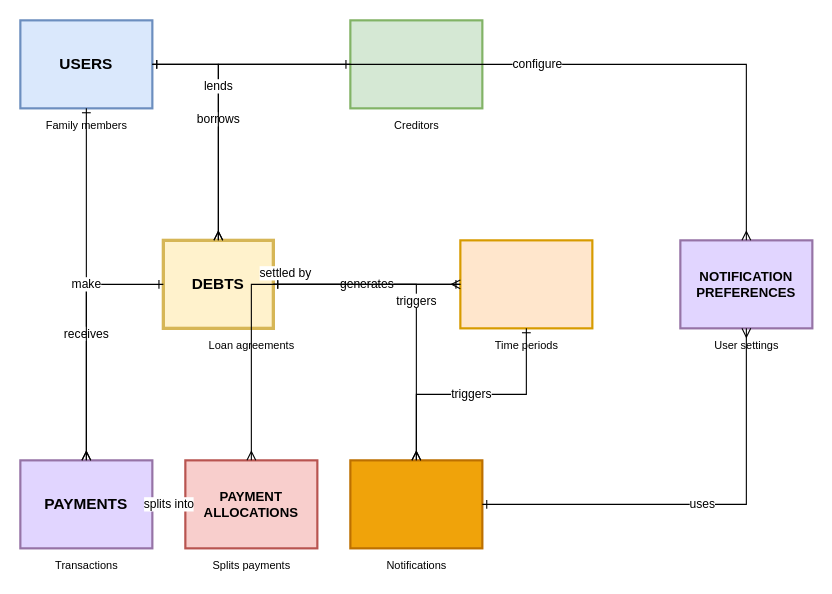
The diagram is 832 pixels wide and 594 high, and some of its shapes have lost their labels. Each missing label, with the centre of its shape:
ALERTS: [416,504]
INTEREST SCHEDULES: [526,284]
LENDERS: [416,64]
